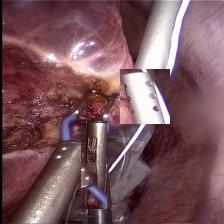Bipolar: (57, 85, 117, 145)
Grasper: (80, 122, 106, 210)
Irrigator: (119, 69, 169, 124)
Specimen Bag: (107, 121, 154, 223)
